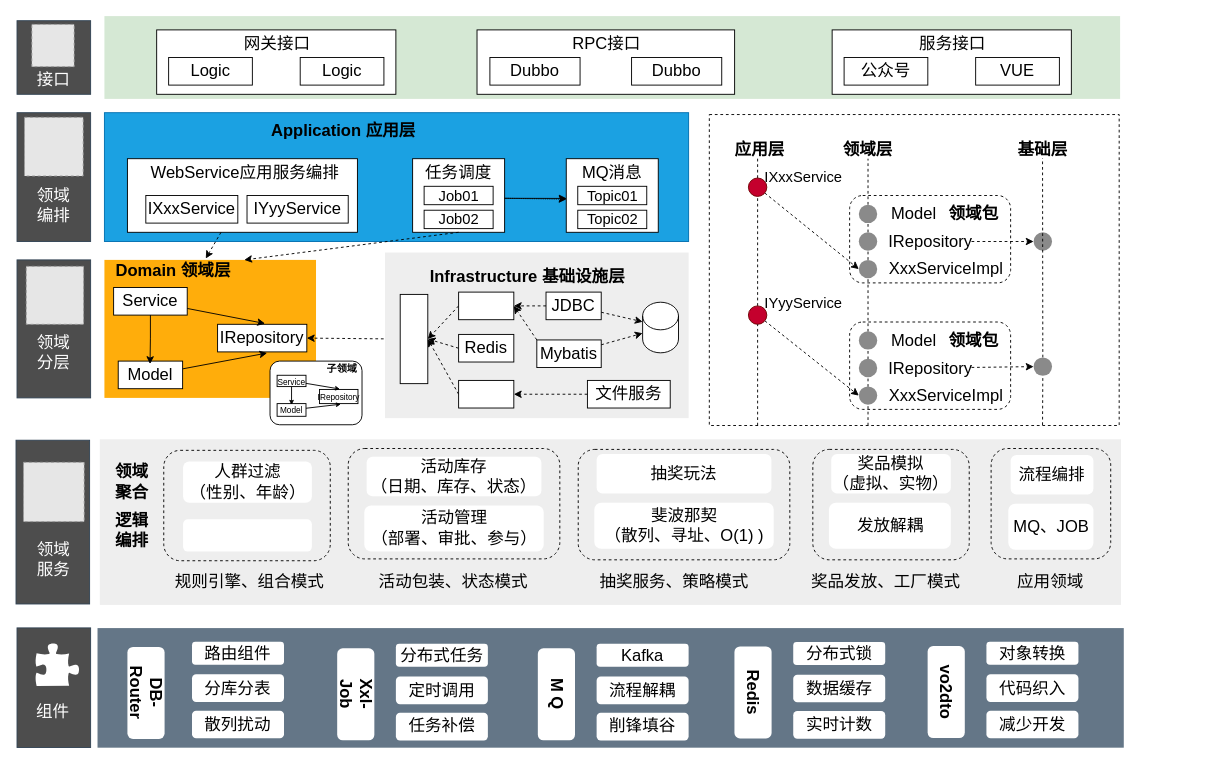
Image size: 1220x764. Some labels were removed from this diagram. Grey dashed boxes stand in for pictures. The centre of each missing label's shape, as x and y in pixels:
"DAO" goes at [486,305].
"DB" goes at [660,327].
"ES" goes at [486,394].
"Repository" goes at [413,338].
"圈定活动" goes at [247,535].
